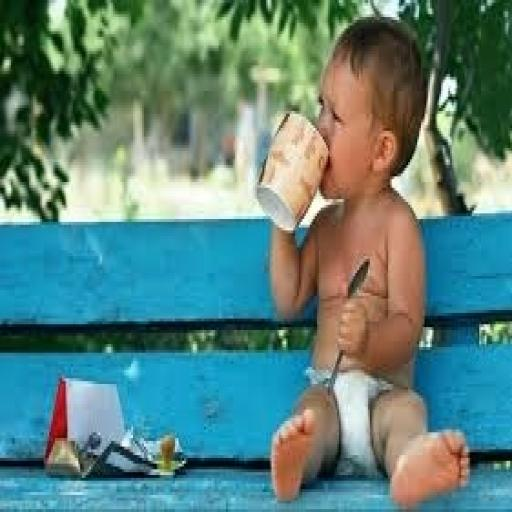drinking: (253, 108, 343, 236)
